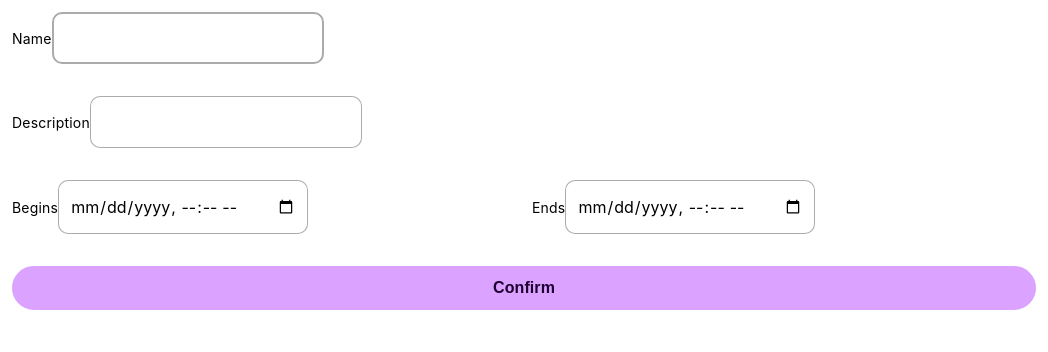
Test: EventForm tests › should failed on blur when entered end date is sooner than entered start date
Type "2023-06-19T20:00" into the field labelled "Begins" at (183, 207), box [58,180,308,234]
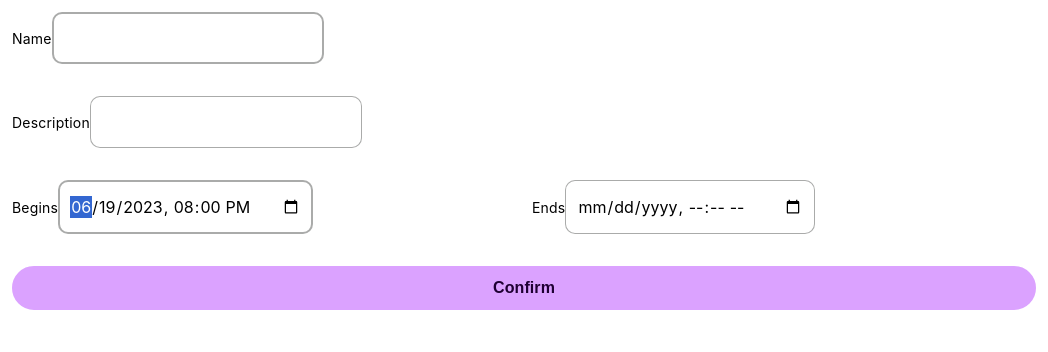
Type "2023-03-07T08:00" into the field labelled "Ends" at (690, 207), box [566,180,816,234]
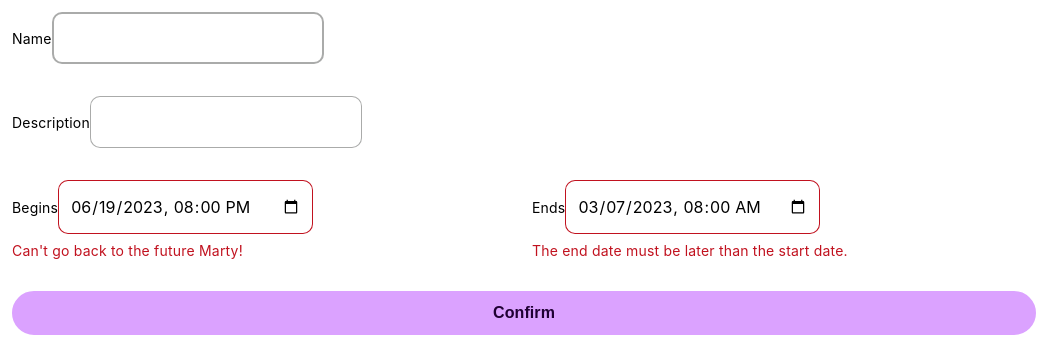
Now the text "The end date must be later than the start date." is shown, box [532,242,848,259]
